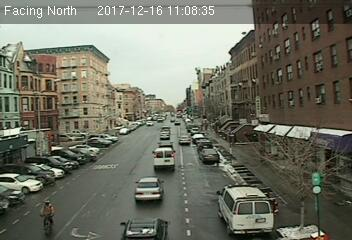bicycle: (40, 199, 56, 232)
car: (118, 215, 164, 240), (133, 176, 164, 203), (199, 148, 220, 163), (177, 135, 192, 146), (159, 131, 170, 139)
police: (217, 182, 274, 234)
truck: (151, 147, 174, 171)
